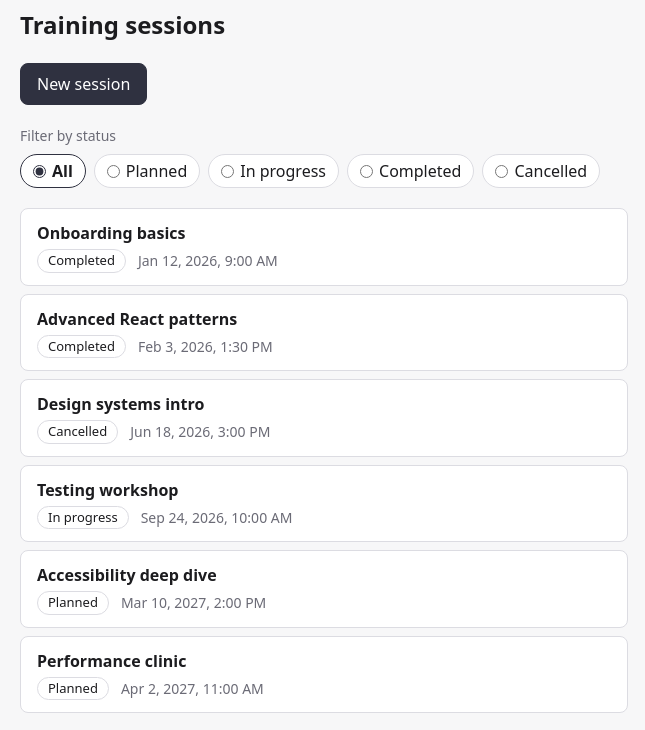
status filter › defaults to All and narrows the list to one status, then back to All
This screenshot has width=645, height=730.
Expected: the text "Onboarding basics" is shown, [37,222,186,244]
Expected: the radio button labelled "All" is checked, [33,164,46,178]
Click the radio button labelled "Completed" at (366, 171), box [360,164,373,178]
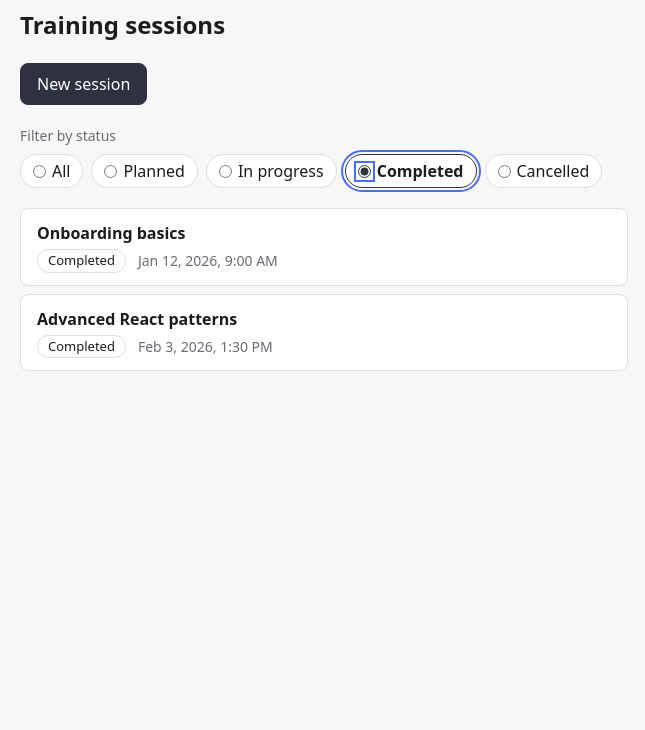
Expected: the text "Completed" below "Onboarding basics" is shown, [48,251,115,269]
Expected: the number of list items is 2, [20,208,628,286]; [20,294,628,371]
Click the radio button labelled "All" at (40, 171), box [33,164,46,178]
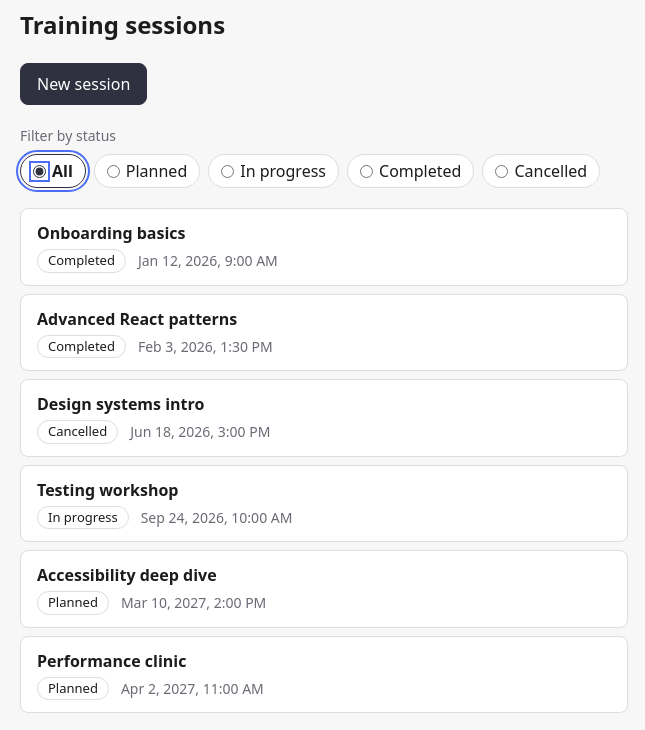
Expected: the number of list items is 6, [20,208,628,286]; [20,294,628,371]; [20,379,628,456]; [20,464,628,542]; [20,550,628,628]; [20,636,628,713]
